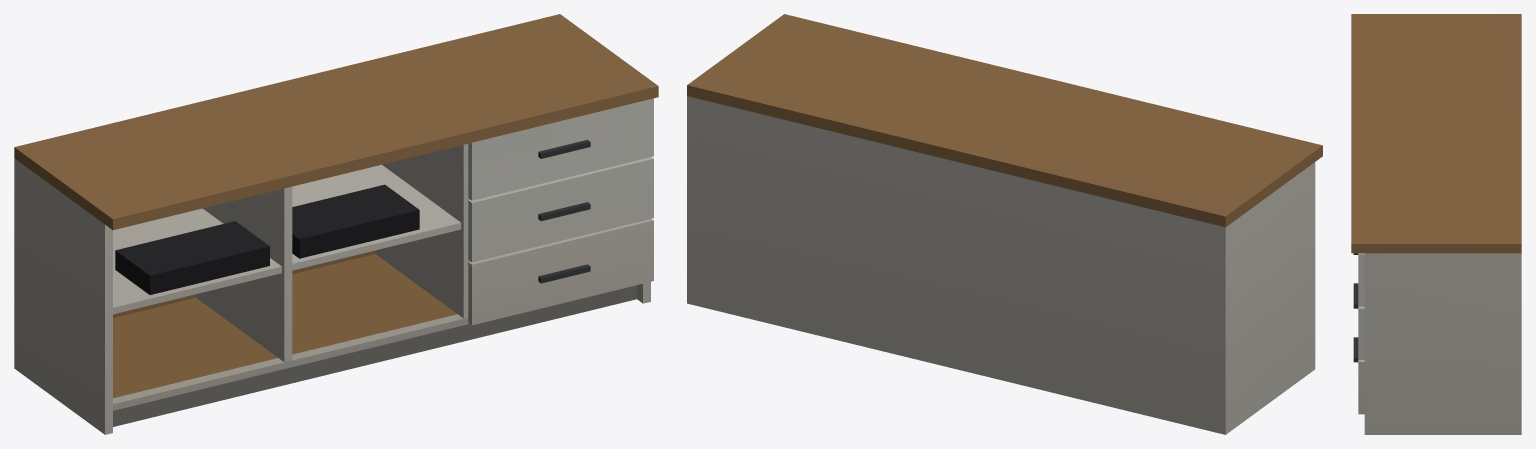
The model's file is cabinet.media.white.glb.
3 views of the same model, side by side, from view 1: azimuth 30°, elevation 25°; view 2: azimuth 150°, elevation 25°; view 3: azimuth 270°, elevation 25° (orthographic). The views are drawn at different scales.
Visible parts, largest first — view 1: cabinet_media_white; view 2: cabinet_media_white; view 3: cabinet_media_white.
Boxes of the visible parts, left/top/right/bottom form: cabinet_media_white: left=14, top=14, right=658, bottom=434; cabinet_media_white: left=687, top=14, right=1322, bottom=434; cabinet_media_white: left=1351, top=14, right=1521, bottom=434.
Size of what is drawn, in the model's own units: 1.55 by 0.6 by 0.484.
